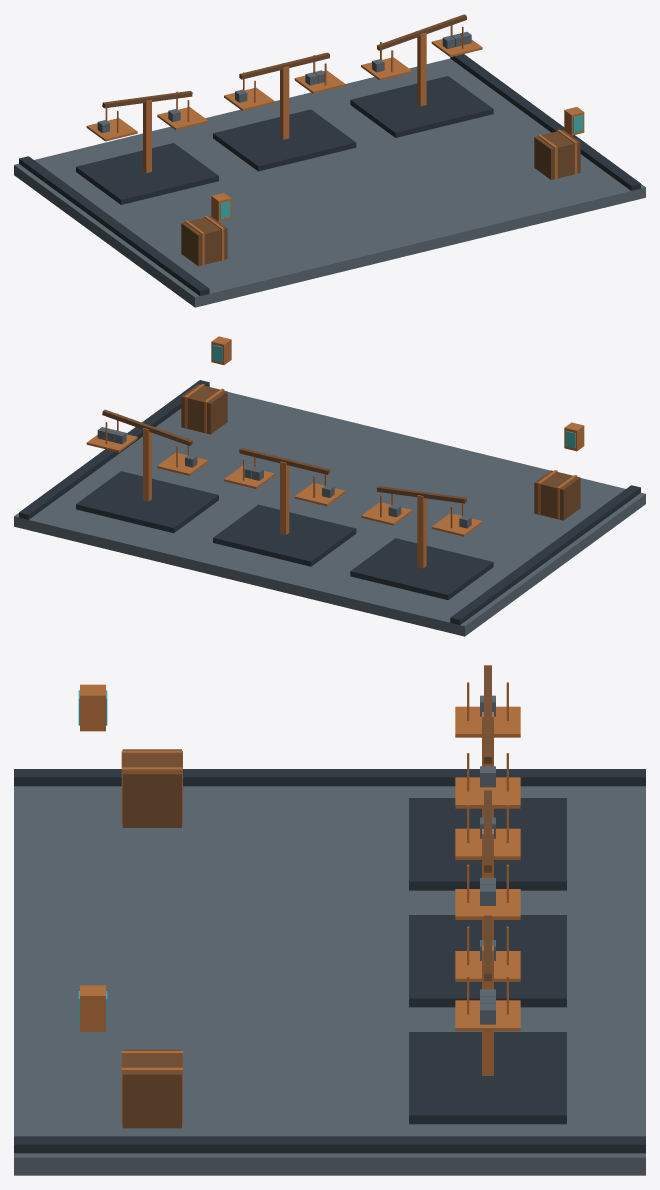
File: scale_yard.glb
The picture shows the model from 3 angles, top to bottom: view 1: azimuth 30°, elevation 25°; view 2: azimuth 150°, elevation 25°; view 3: azimuth 270°, elevation 25°; orthographic projection. The views are drawn at different scales.
Visible parts, largest first — view 1: scale_yard; view 2: scale_yard; view 3: scale_yard.
Part boxes in pixels (x1=…): scale_yard: x1=14, y1=14, x2=645, y2=307; scale_yard: x1=14, y1=336, x2=645, y2=636; scale_yard: x1=14, y1=665, x2=645, y2=1175.
Size of the model in its own units: 46 by 9.17 by 32.
